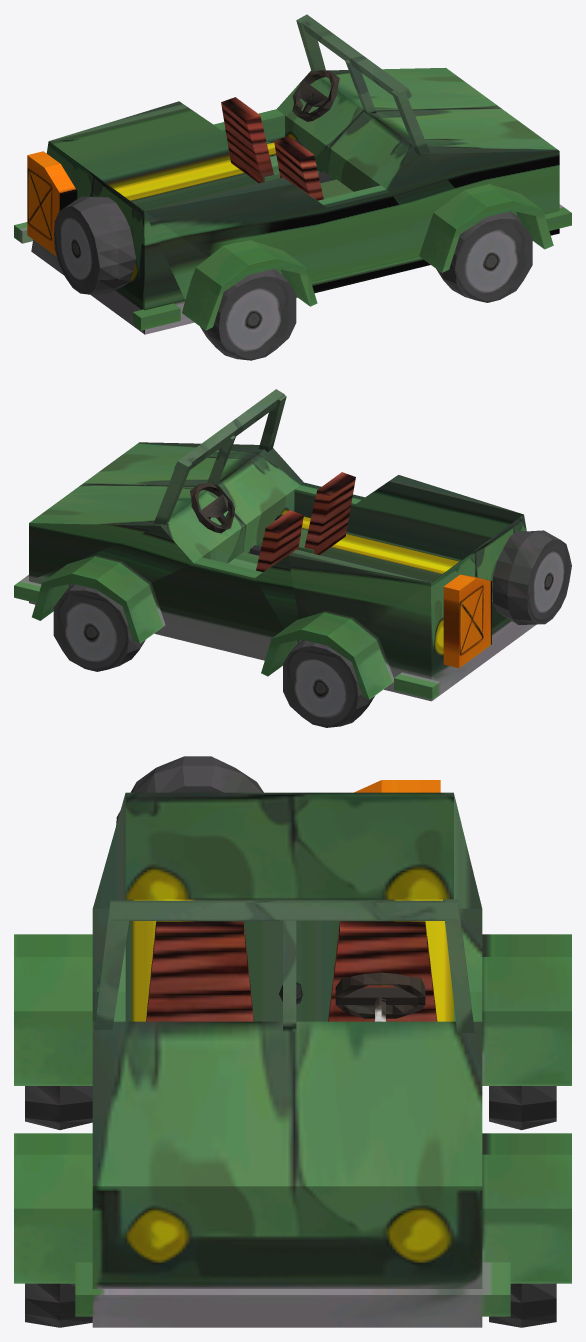
File: CityJeep.glb
3 views of the same model, one above another, from view 1: azimuth 30°, elevation 25°; view 2: azimuth 150°, elevation 25°; view 3: azimuth 270°, elevation 25° (orthographic). The views are drawn at different scales.
Parts seen in each view (by area): view 1: CityJeep; view 2: CityJeep; view 3: CityJeep.
Boxes of the visible parts, x1,y1,x2,y2 form: CityJeep: (14, 14, 571, 360); CityJeep: (14, 389, 571, 727); CityJeep: (14, 756, 571, 1327).
Bounding box in the file's own units: 121 × 53.32 × 73.98.
Materials: 1 (1 with a texture image).
